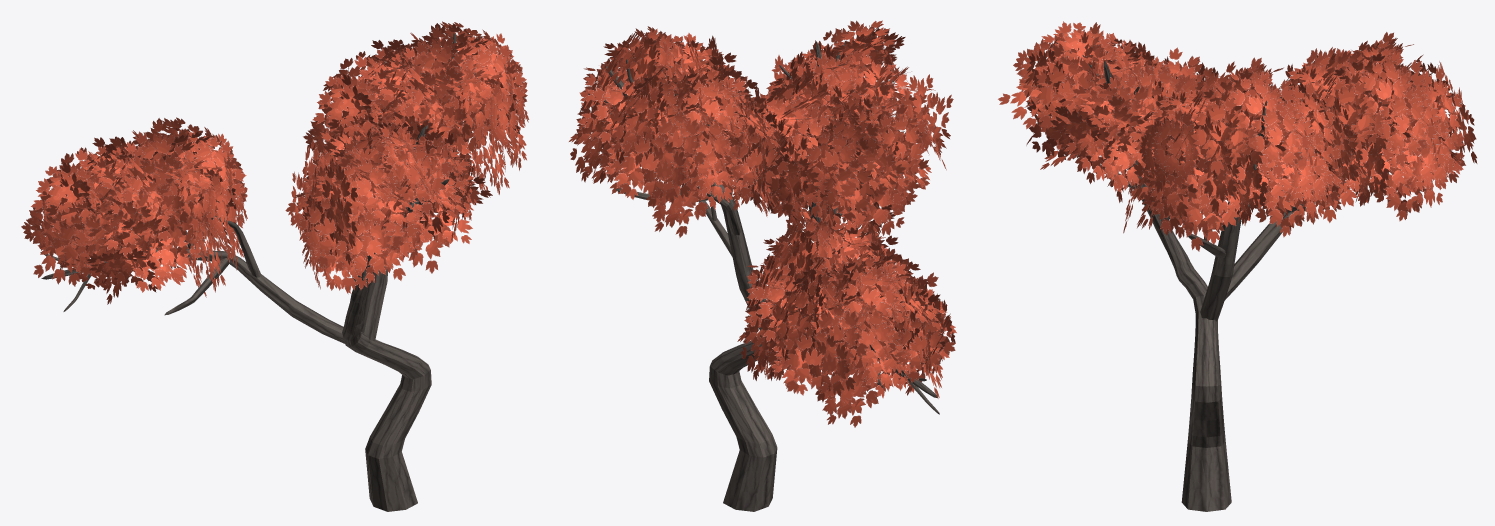
The model's file is StreetTreeMaple.obj.
3 views of the same model, side by side, from view 1: azimuth 30°, elevation 25°; view 2: azimuth 150°, elevation 25°; view 3: azimuth 270°, elevation 25° (orthographic). The views are drawn at different scales.
Visible parts, largest first — view 1: MapleTree_3, MapleTree_2; view 2: MapleTree_3, MapleTree_2; view 3: MapleTree_3, MapleTree_2.
Part boxes in pixels (x1=…): MapleTree_3: x1=21, y1=21, x2=529, y2=304; MapleTree_2: x1=40, y1=33, x2=470, y2=511; MapleTree_3: x1=569, y1=20, x2=956, y2=427; MapleTree_2: x1=603, y1=42, x2=939, y2=511; MapleTree_3: x1=998, y1=21, x2=1477, y2=251; MapleTree_2: x1=1054, y1=55, x2=1305, y2=511.
Bounding box in the file's own units: 6.7 × 6.71 × 6.24.
2 materials, 2 textured.
